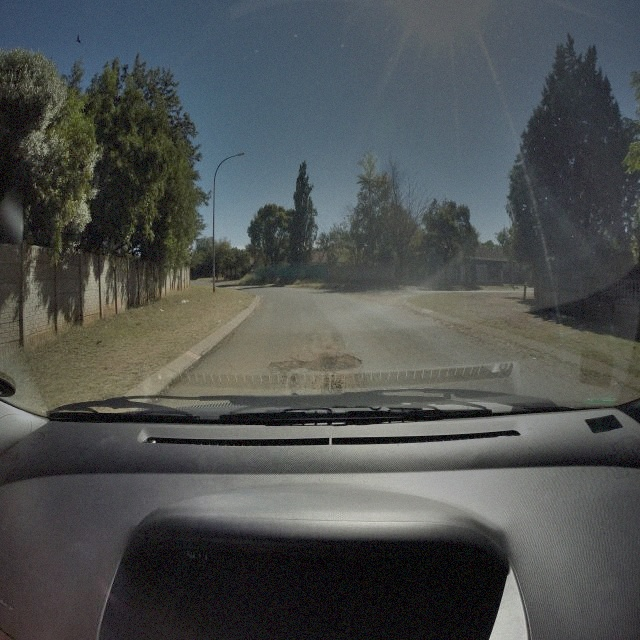pothole: (269, 353, 364, 374)
